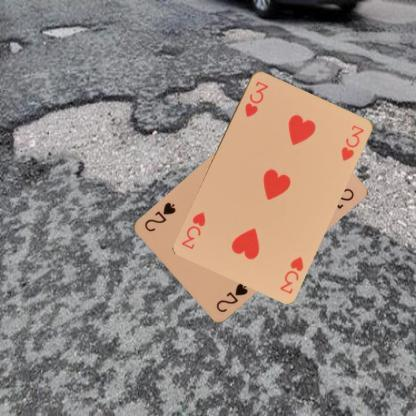2s: (213, 281, 249, 314)
3h: (242, 78, 271, 118), (277, 254, 304, 294)
